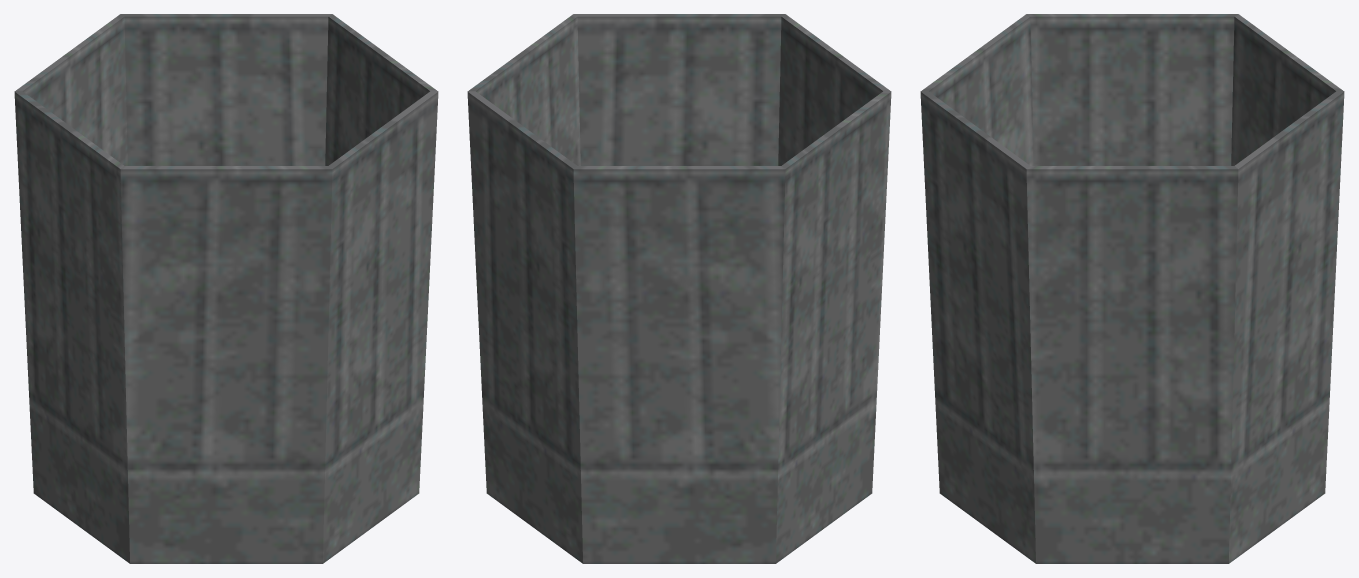
File: Urban_MetaltrashcanOpenDirty_Model.fbx
The picture shows the model from 3 angles, left to right: view 1: azimuth 30°, elevation 25°; view 2: azimuth 150°, elevation 25°; view 3: azimuth 270°, elevation 25°; orthographic projection.
Visible parts, largest first — view 1: Urban_MetaltrashcanOpenDirty_Mesh; view 2: Urban_MetaltrashcanOpenDirty_Mesh; view 3: Urban_MetaltrashcanOpenDirty_Mesh.
Boxes of the visible parts, x1,y1,x2,y2 form: Urban_MetaltrashcanOpenDirty_Mesh: (14,14,438,563); Urban_MetaltrashcanOpenDirty_Mesh: (467,14,891,563); Urban_MetaltrashcanOpenDirty_Mesh: (920,14,1344,563).
Size of the model in its own units: 0.7263 by 0.8777 by 0.8387.
